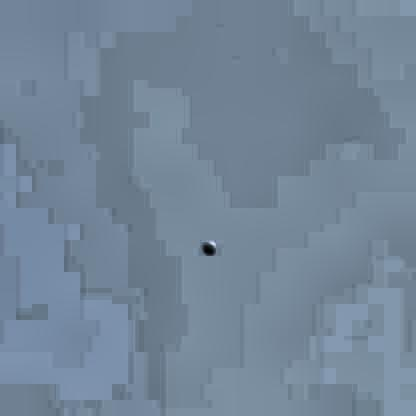golfball: (198, 237, 216, 255)
